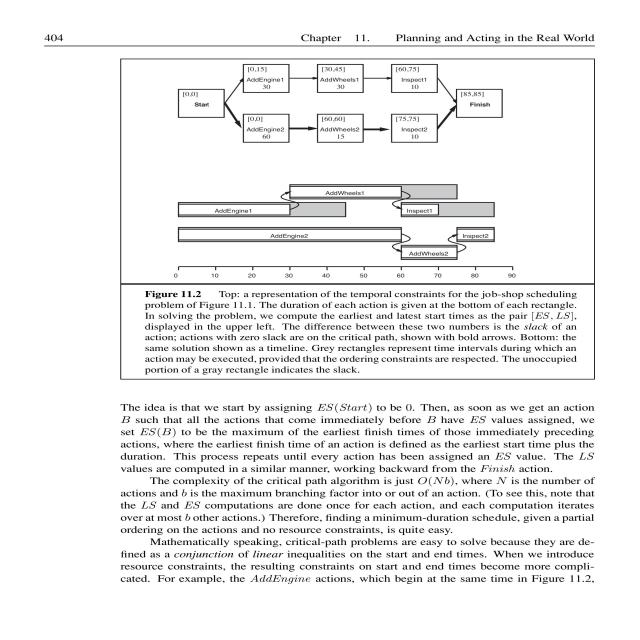diagram: (122, 58, 591, 380)
